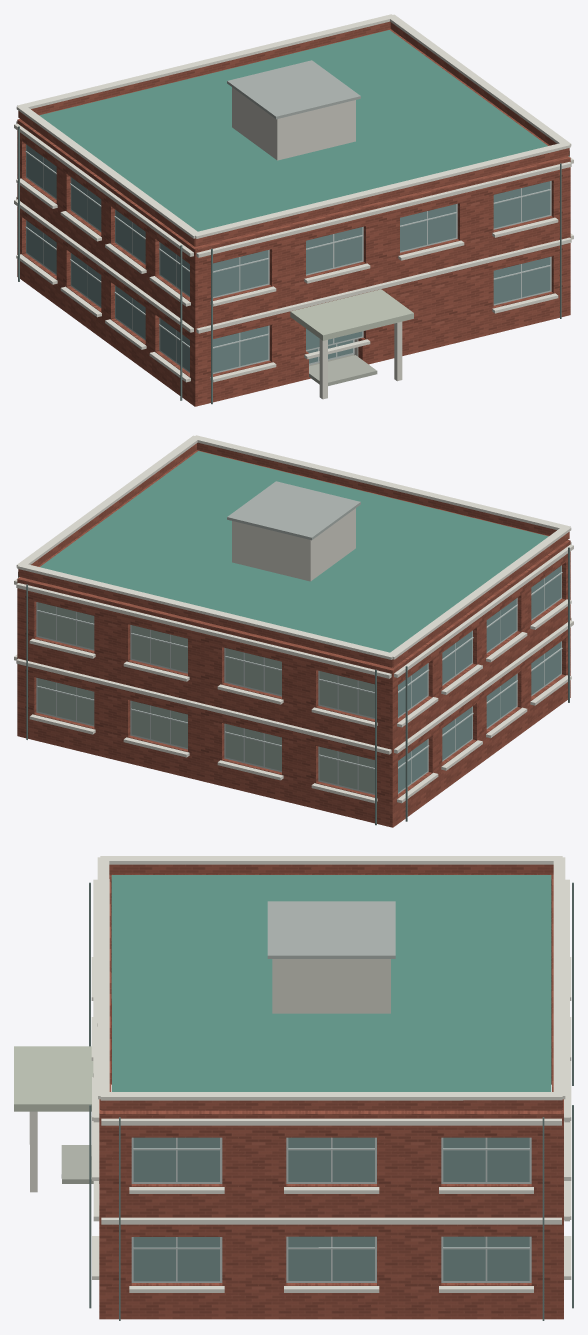
3 views of the same model, one above another, from view 1: azimuth 30°, elevation 25°; view 2: azimuth 150°, elevation 25°; view 3: azimuth 270°, elevation 25° (orthographic). The views are drawn at different scales.
Parts seen in each view (by area): view 1: service__brick, service__roof, service__trim, service__glass, service__wall, service__greyroof, service__frame, service__entry, service__metal, service__threshold-1-11; view 2: service__brick, service__roof, service__trim, service__sideglass, service__glass, service__wall, service__frame, service__greyroof, service__metal; view 3: service__roof, service__brick, service__trim, service__glass, service__greyroof, service__wall, service__entry, service__frame, service__metal, service__threshold-1-11.
Part boxes in pixels (left/top/right/bottom): service__brick: left=17, top=21, right=570, bottom=406; service__roof: left=39, top=30, right=547, bottom=231; service__trim: left=14, top=14, right=573, bottom=399; service__glass: left=26, top=145, right=550, bottom=372; service__wall: left=232, top=87, right=358, bottom=356; service__greyroof: left=227, top=60, right=360, bottom=119; service__frame: left=25, top=144, right=551, bottom=374; service__entry: left=290, top=289, right=413, bottom=340; service__metal: left=18, top=126, right=569, bottom=404; service__threshold-1-11: left=309, top=355, right=377, bottom=385; service__brick: left=17, top=442, right=570, bottom=827; service__roof: left=40, top=451, right=548, bottom=652; service__trim: left=14, top=435, right=573, bottom=803; service__sideglass: left=37, top=602, right=374, bottom=793; service__glass: left=398, top=566, right=561, bottom=792; service__wall: left=232, top=508, right=355, bottom=581; service__frame: left=36, top=565, right=562, bottom=794; service__greyroof: left=227, top=481, right=360, bottom=540; service__metal: left=18, top=547, right=569, bottom=825; service__roof: left=111, top=875, right=551, bottom=1091; service__brick: left=99, top=864, right=563, bottom=1319; service__trim: left=29, top=856, right=571, bottom=1292; service__glass: left=133, top=1137, right=529, bottom=1281; service__greyroof: left=267, top=901, right=395, bottom=958; service__wall: left=272, top=959, right=390, bottom=1013; service__entry: left=14, top=1046, right=93, bottom=1111; service__frame: left=131, top=1137, right=531, bottom=1282; service__metal: left=89, top=882, right=573, bottom=1320; service__threshold-1-11: left=61, top=1145, right=99, bottom=1183.
Size of the model in its own units: 18.81 by 9.58 by 17.93.
12 materials, 1 textured.
